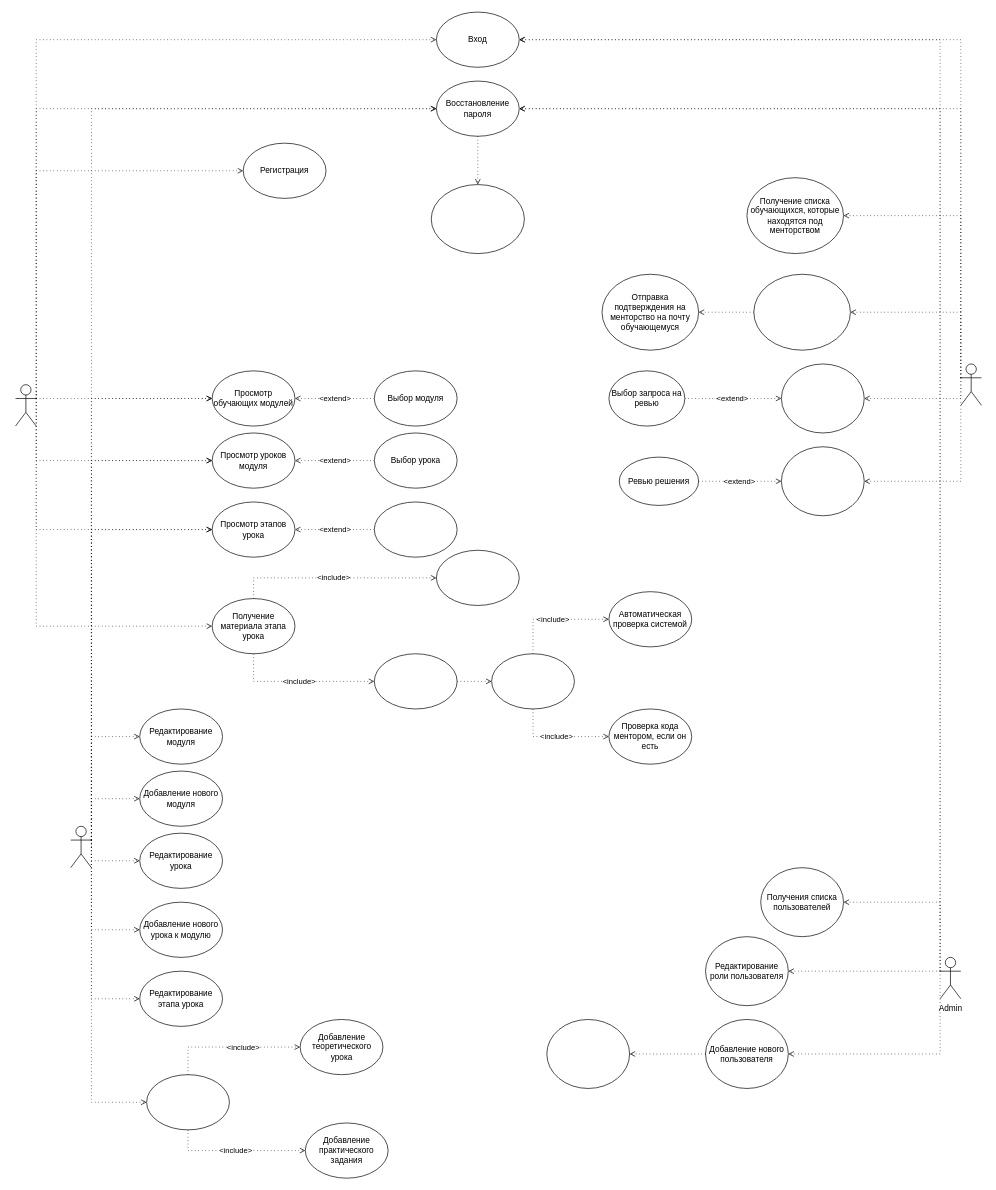
This 996x1190 diagram has some shape labels left out. Here are the shapes that lost their labels. From the top down, the centre of each, then its label:
At (477,219): "Отправка на почту ссылки с обновлением пароля".
At (801,312): "Добавление нового обучающегося для менторства".
At (822,398): "Получение всех запросов на ревью".
At (971,384): "Mentor".
At (25,405): "Student".
At (822,481): "Получение задания и его решения для ревью".
At (415,529): "Выбор этапа".
At (477,577): "Просмотр обучающего материала".
At (415,681): "Выполнение практического задания".
At (532,681): "Проверка задания".
At (80,847): "Content editor".
At (588,1053): "Отправка на почту нового пользователя пароля от аккаунта".
At (187,1102): "Добавление этапа к уроку".
